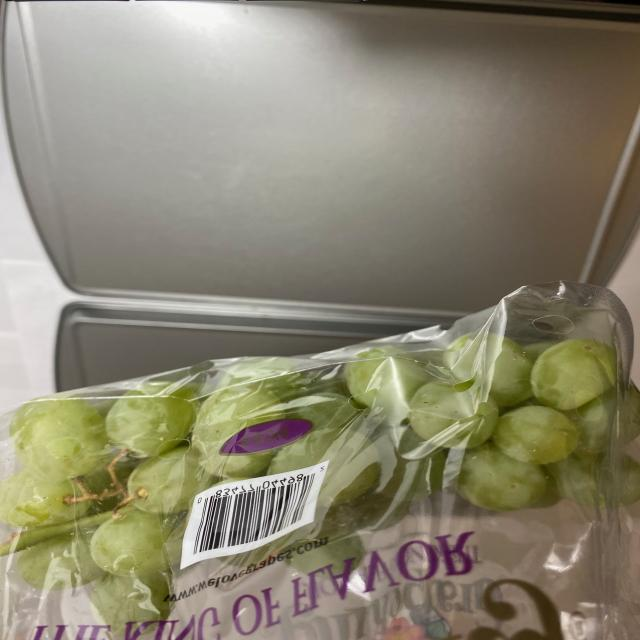grapes: (10, 332, 630, 613)
